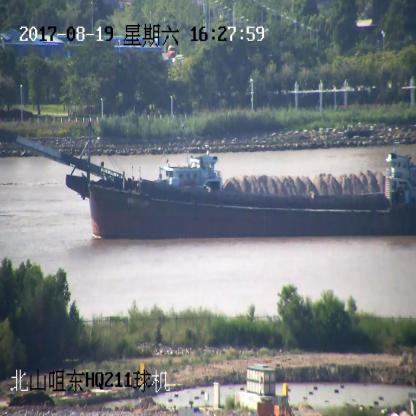Bulk Carrier: (3, 133, 416, 238)
